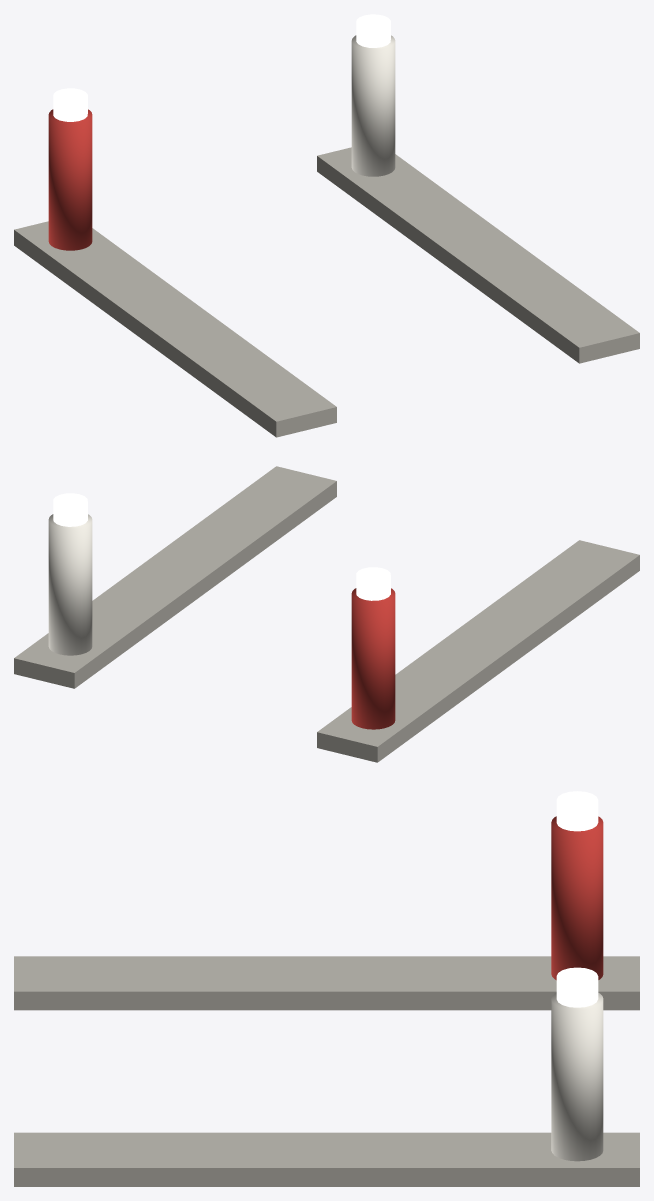
Rendered from CheongsapoLighthouse_blockout.glb.
The picture shows the model from 3 angles, top to bottom: view 1: azimuth 30°, elevation 25°; view 2: azimuth 150°, elevation 25°; view 3: azimuth 270°, elevation 25°; orthographic projection. The views are drawn at different scales.
Parts seen in each view (by area): view 1: ENV15_CheongsapoLighthouse_Breakwater1_L0, ENV15_CheongsapoLighthouse_Breakwater0_L0, ENV15_CheongsapoLighthouse_Lighthouse0_L0, ENV15_CheongsapoLighthouse_Lighthouse1_L0, ENV15_CheongsapoLighthouse_Lantern0_L0, ENV15_CheongsapoLighthouse_Lantern1_L0; view 2: ENV15_CheongsapoLighthouse_Breakwater1_L0, ENV15_CheongsapoLighthouse_Breakwater0_L0, ENV15_CheongsapoLighthouse_Lighthouse0_L0, ENV15_CheongsapoLighthouse_Lighthouse1_L0, ENV15_CheongsapoLighthouse_Lantern0_L0, ENV15_CheongsapoLighthouse_Lantern1_L0; view 3: ENV15_CheongsapoLighthouse_Breakwater1_L0, ENV15_CheongsapoLighthouse_Breakwater0_L0, ENV15_CheongsapoLighthouse_Lighthouse1_L0, ENV15_CheongsapoLighthouse_Lighthouse0_L0, ENV15_CheongsapoLighthouse_Lantern0_L0, ENV15_CheongsapoLighthouse_Lantern1_L0.
Boxes of the visible parts, bbox=[...] form: ENV15_CheongsapoLighthouse_Breakwater1_L0: bbox=[317, 147, 639, 363]; ENV15_CheongsapoLighthouse_Breakwater0_L0: bbox=[14, 221, 336, 437]; ENV15_CheongsapoLighthouse_Lighthouse0_L0: bbox=[48, 109, 92, 250]; ENV15_CheongsapoLighthouse_Lighthouse1_L0: bbox=[351, 35, 395, 176]; ENV15_CheongsapoLighthouse_Lantern0_L0: bbox=[53, 88, 87, 121]; ENV15_CheongsapoLighthouse_Lantern1_L0: bbox=[356, 14, 390, 47]; ENV15_CheongsapoLighthouse_Breakwater1_L0: bbox=[14, 466, 336, 688]; ENV15_CheongsapoLighthouse_Breakwater0_L0: bbox=[317, 540, 639, 762]; ENV15_CheongsapoLighthouse_Lighthouse0_L0: bbox=[351, 588, 395, 729]; ENV15_CheongsapoLighthouse_Lighthouse1_L0: bbox=[48, 514, 92, 655]; ENV15_CheongsapoLighthouse_Lantern0_L0: bbox=[356, 567, 390, 600]; ENV15_CheongsapoLighthouse_Lantern1_L0: bbox=[53, 493, 87, 526]; ENV15_CheongsapoLighthouse_Breakwater1_L0: bbox=[14, 1132, 639, 1186]; ENV15_CheongsapoLighthouse_Breakwater0_L0: bbox=[14, 956, 639, 1010]; ENV15_CheongsapoLighthouse_Lighthouse1_L0: bbox=[551, 992, 603, 1161]; ENV15_CheongsapoLighthouse_Lighthouse0_L0: bbox=[551, 816, 603, 980]; ENV15_CheongsapoLighthouse_Lantern0_L0: bbox=[556, 791, 598, 831]; ENV15_CheongsapoLighthouse_Lantern1_L0: bbox=[556, 967, 598, 1007].
Bounding box in the file's own units: 24 × 10.2 × 30.
